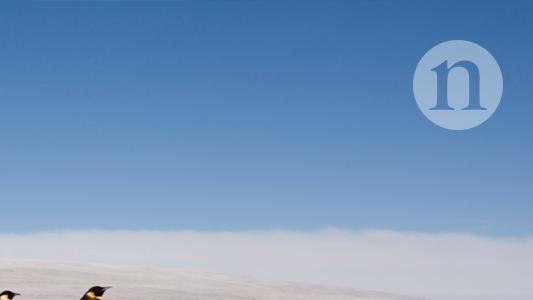Emperor Penguin: (0, 48, 18, 300)
